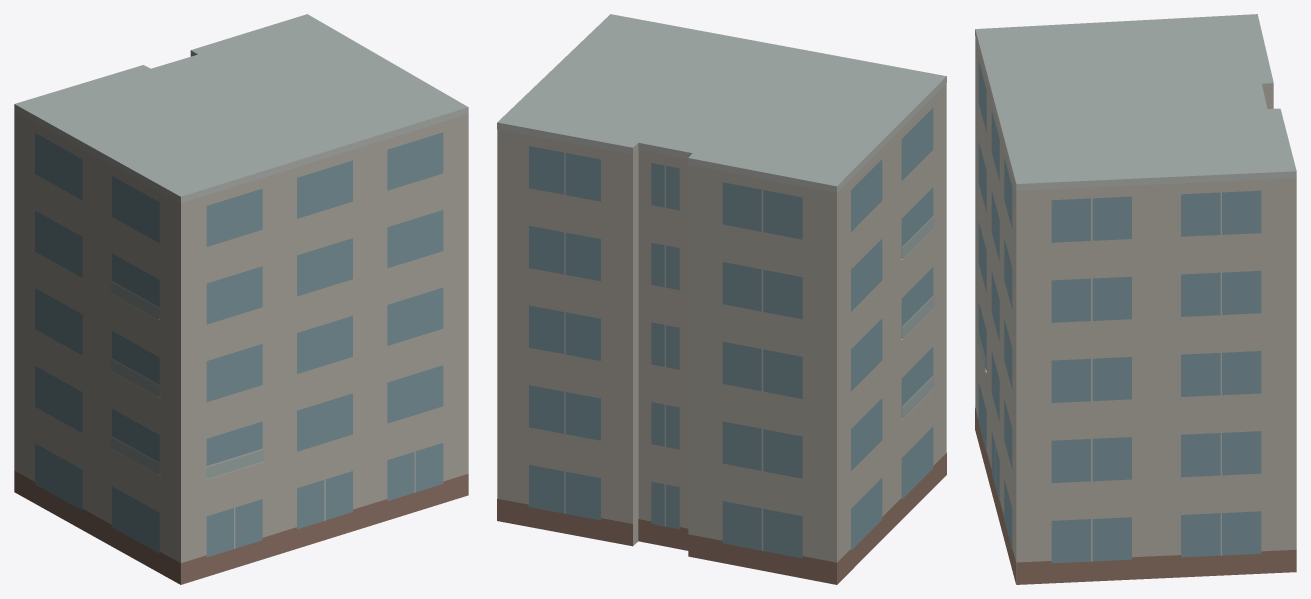
Rendered from survey-upis-32831166.glb.
The picture shows the model from 3 angles, left to right: view 1: azimuth 30°, elevation 25°; view 2: azimuth 150°, elevation 25°; view 3: azimuth 270°, elevation 25°; orthographic projection. The views are drawn at different scales.
Parts seen in each view (by area): view 1: survey-upis-32831166.tmp; view 2: survey-upis-32831166.tmp; view 3: survey-upis-32831166.tmp.
Part boxes in pixels (x1,y1,x2,y2): survey-upis-32831166.tmp: (14,14,468,584); survey-upis-32831166.tmp: (497,14,946,584); survey-upis-32831166.tmp: (975,14,1296,584).
Bounding box in the file's own units: 13.02 × 14.3 × 10.41.
